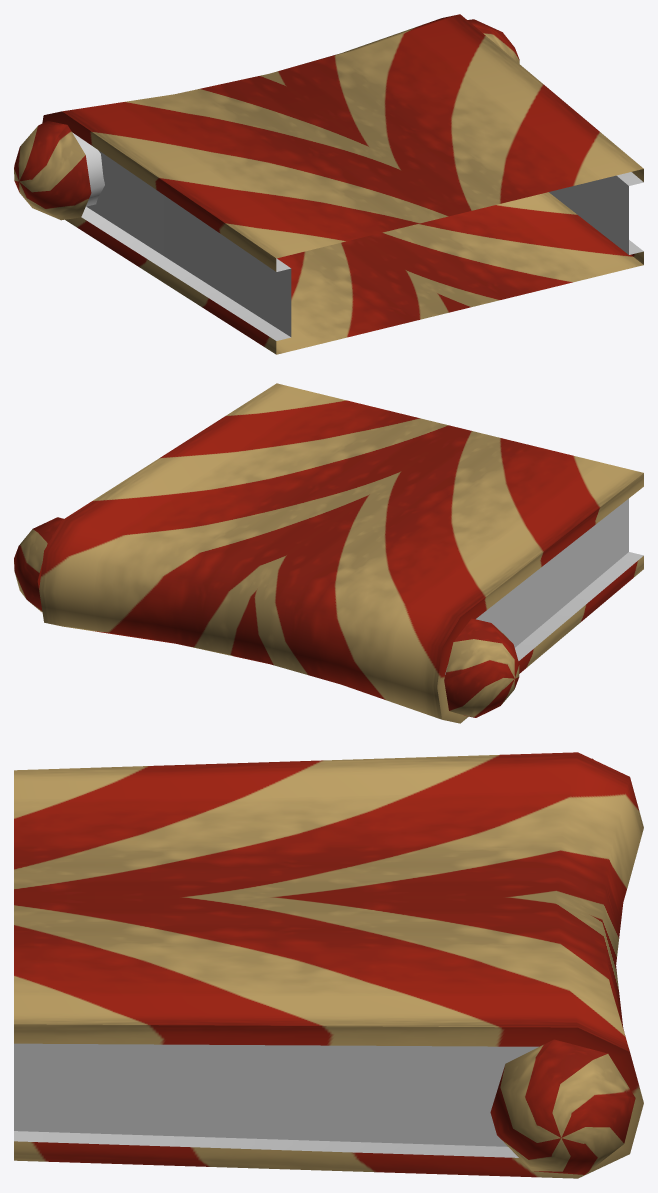
The model's file is MOD_Roller_2_B.FBX.
3 views of the same model, one above another, from view 1: azimuth 30°, elevation 25°; view 2: azimuth 150°, elevation 25°; view 3: azimuth 270°, elevation 25° (orthographic). The views are drawn at different scales.
Visible parts, largest first — view 1: MOD_Roller_2_B; view 2: MOD_Roller_2_B; view 3: MOD_Roller_2_B.
Boxes of the visible parts, bbox=[...] form: MOD_Roller_2_B: bbox=[14, 14, 643, 354]; MOD_Roller_2_B: bbox=[14, 383, 643, 723]; MOD_Roller_2_B: bbox=[14, 752, 643, 1178].
Bounding box in the file's own units: 2.69 × 0.5534 × 2.09.
